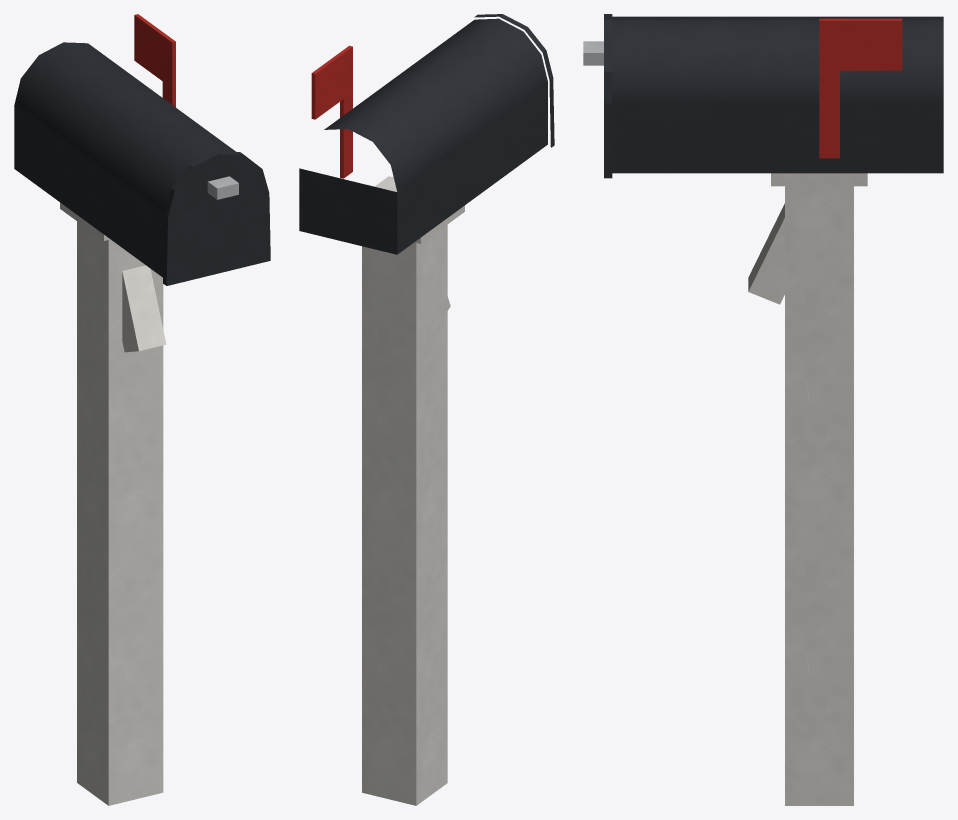
The model's file is mailbox.gltf.
The picture shows the model from 3 angles, left to right: view 1: azimuth 30°, elevation 25°; view 2: azimuth 150°, elevation 25°; view 3: azimuth 270°, elevation 25°; orthographic projection. The views are drawn at different scales.
Parts seen in each view (by area): view 1: mailbox; view 2: mailbox; view 3: mailbox.
Part boxes in pixels (x1,y1,x2,y2): mailbox: (14,14,270,805); mailbox: (299,14,554,805); mailbox: (583,14,943,805).
Size of the model in its own units: 0.227 by 1.47 by 0.6003.
Materials: 4 (4 with a texture image).
